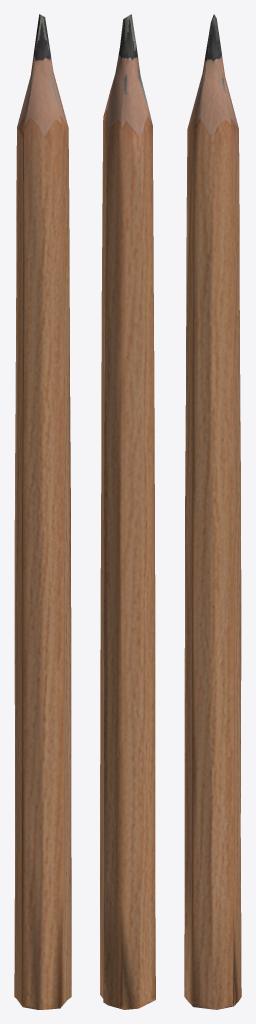
File: wooden+pencil+3d+model.fbx
3 views of the same model, side by side, from view 1: azimuth 90°, elevation 25°; view 2: azimuth 210°, elevation 25°; view 3: azimuth 270°, elevation 25° (orthographic).
Parts seen in each view (by area): view 1: tripo_node_53f657d7; view 2: tripo_node_53f657d7; view 3: tripo_node_53f657d7.
Part boxes in pixels (x1,y1,x2,y2): tripo_node_53f657d7: [14, 14, 71, 1009]; tripo_node_53f657d7: [100, 14, 155, 1009]; tripo_node_53f657d7: [184, 14, 241, 1009].
Size of the model in its own units: 0.0517 by 1 by 0.0526.
1 material, 1 textured.
